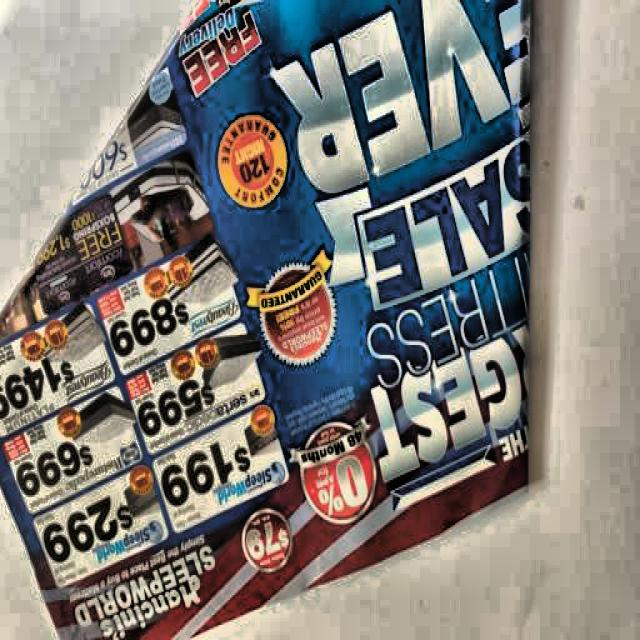paper: (27, 8, 540, 553)
